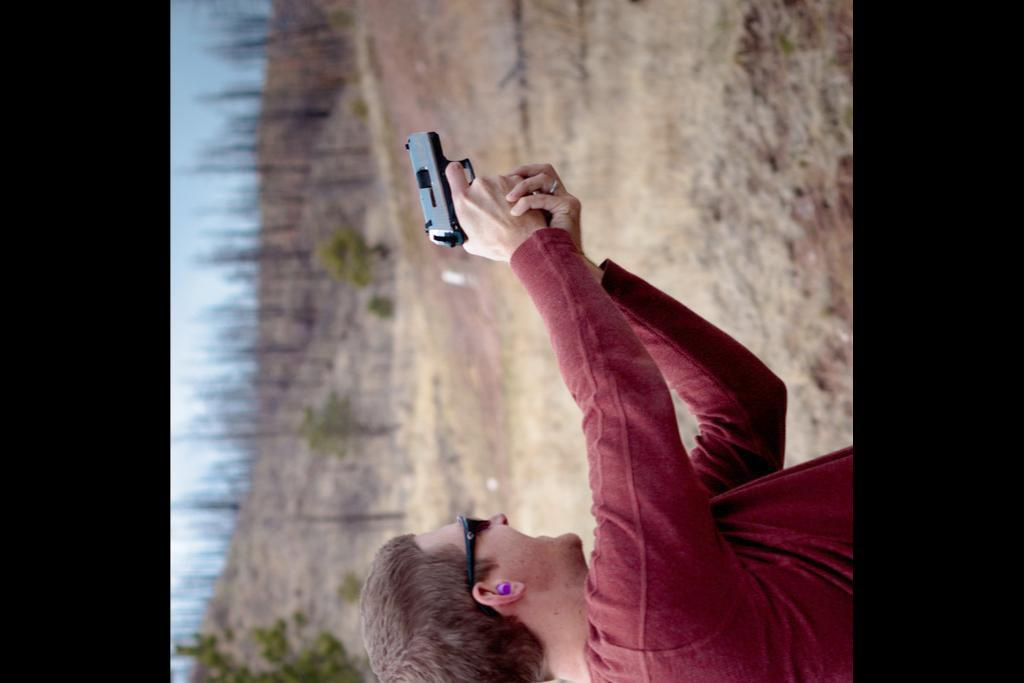gun: (399, 124, 576, 272)
